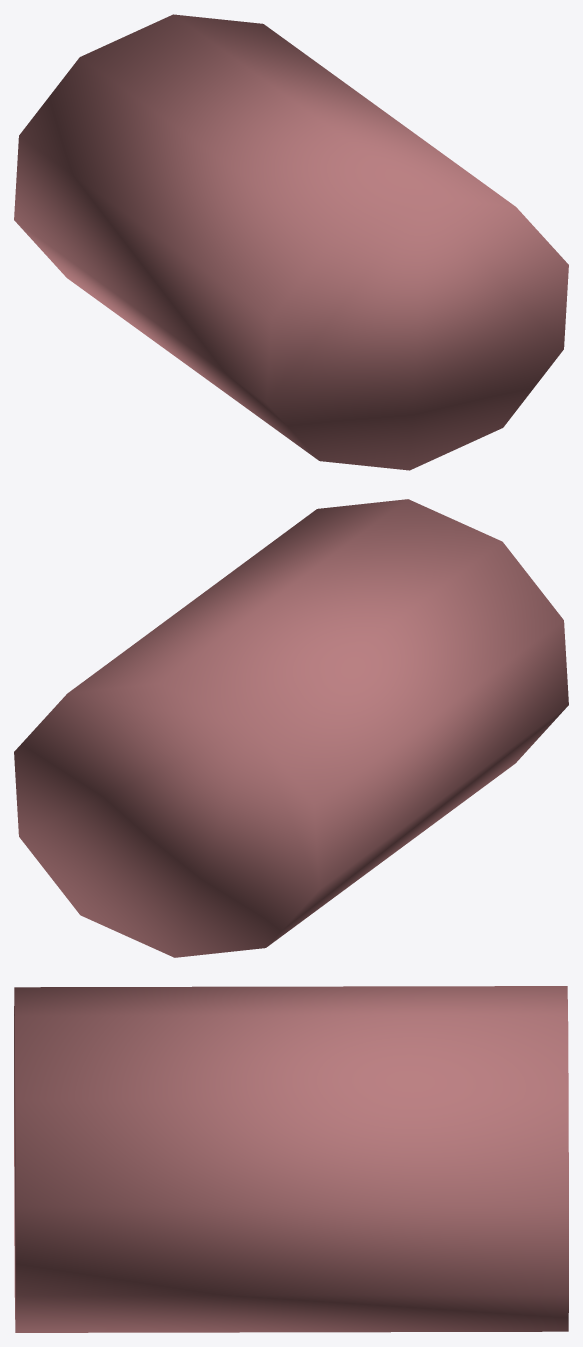
The model's file is SM_W02_Climber_UpperArm_L.fbx.
The picture shows the model from 3 angles, top to bottom: view 1: azimuth 30°, elevation 25°; view 2: azimuth 150°, elevation 25°; view 3: azimuth 270°, elevation 25°; orthographic projection. The views are drawn at different scales.
Parts seen in each view (by area): view 1: SM_W02_Climber_UpperArm_L; view 2: SM_W02_Climber_UpperArm_L; view 3: SM_W02_Climber_UpperArm_L.
Boxes of the visible parts, x1,y1,x2,y2 form: SM_W02_Climber_UpperArm_L: (14,14,568,470); SM_W02_Climber_UpperArm_L: (14,499,568,957); SM_W02_Climber_UpperArm_L: (14,986,568,1332).
Size of the model in its own units: 0.2817 by 0.402 by 0.2375.
